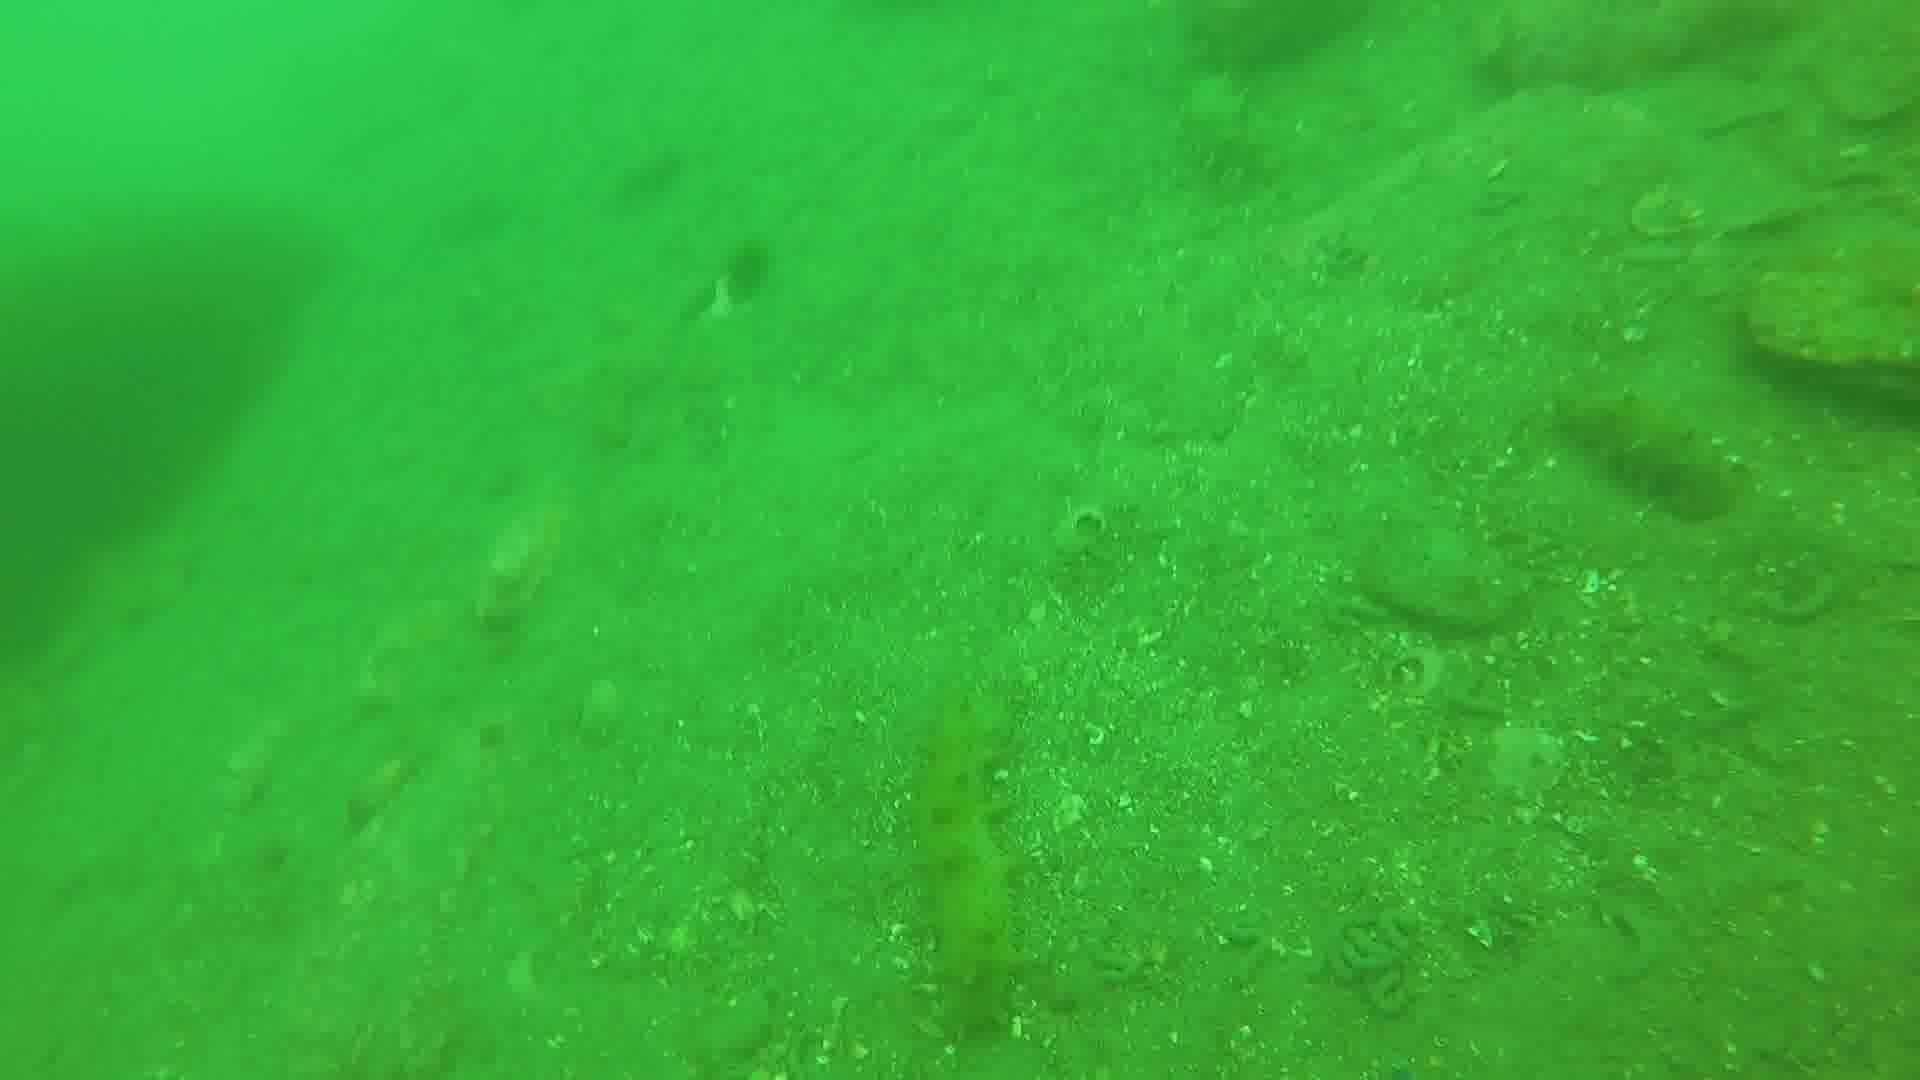echinus: (712, 235, 781, 309)
holothurian: (898, 688, 1036, 1040), (1553, 382, 1741, 526), (1168, 69, 1280, 200)
